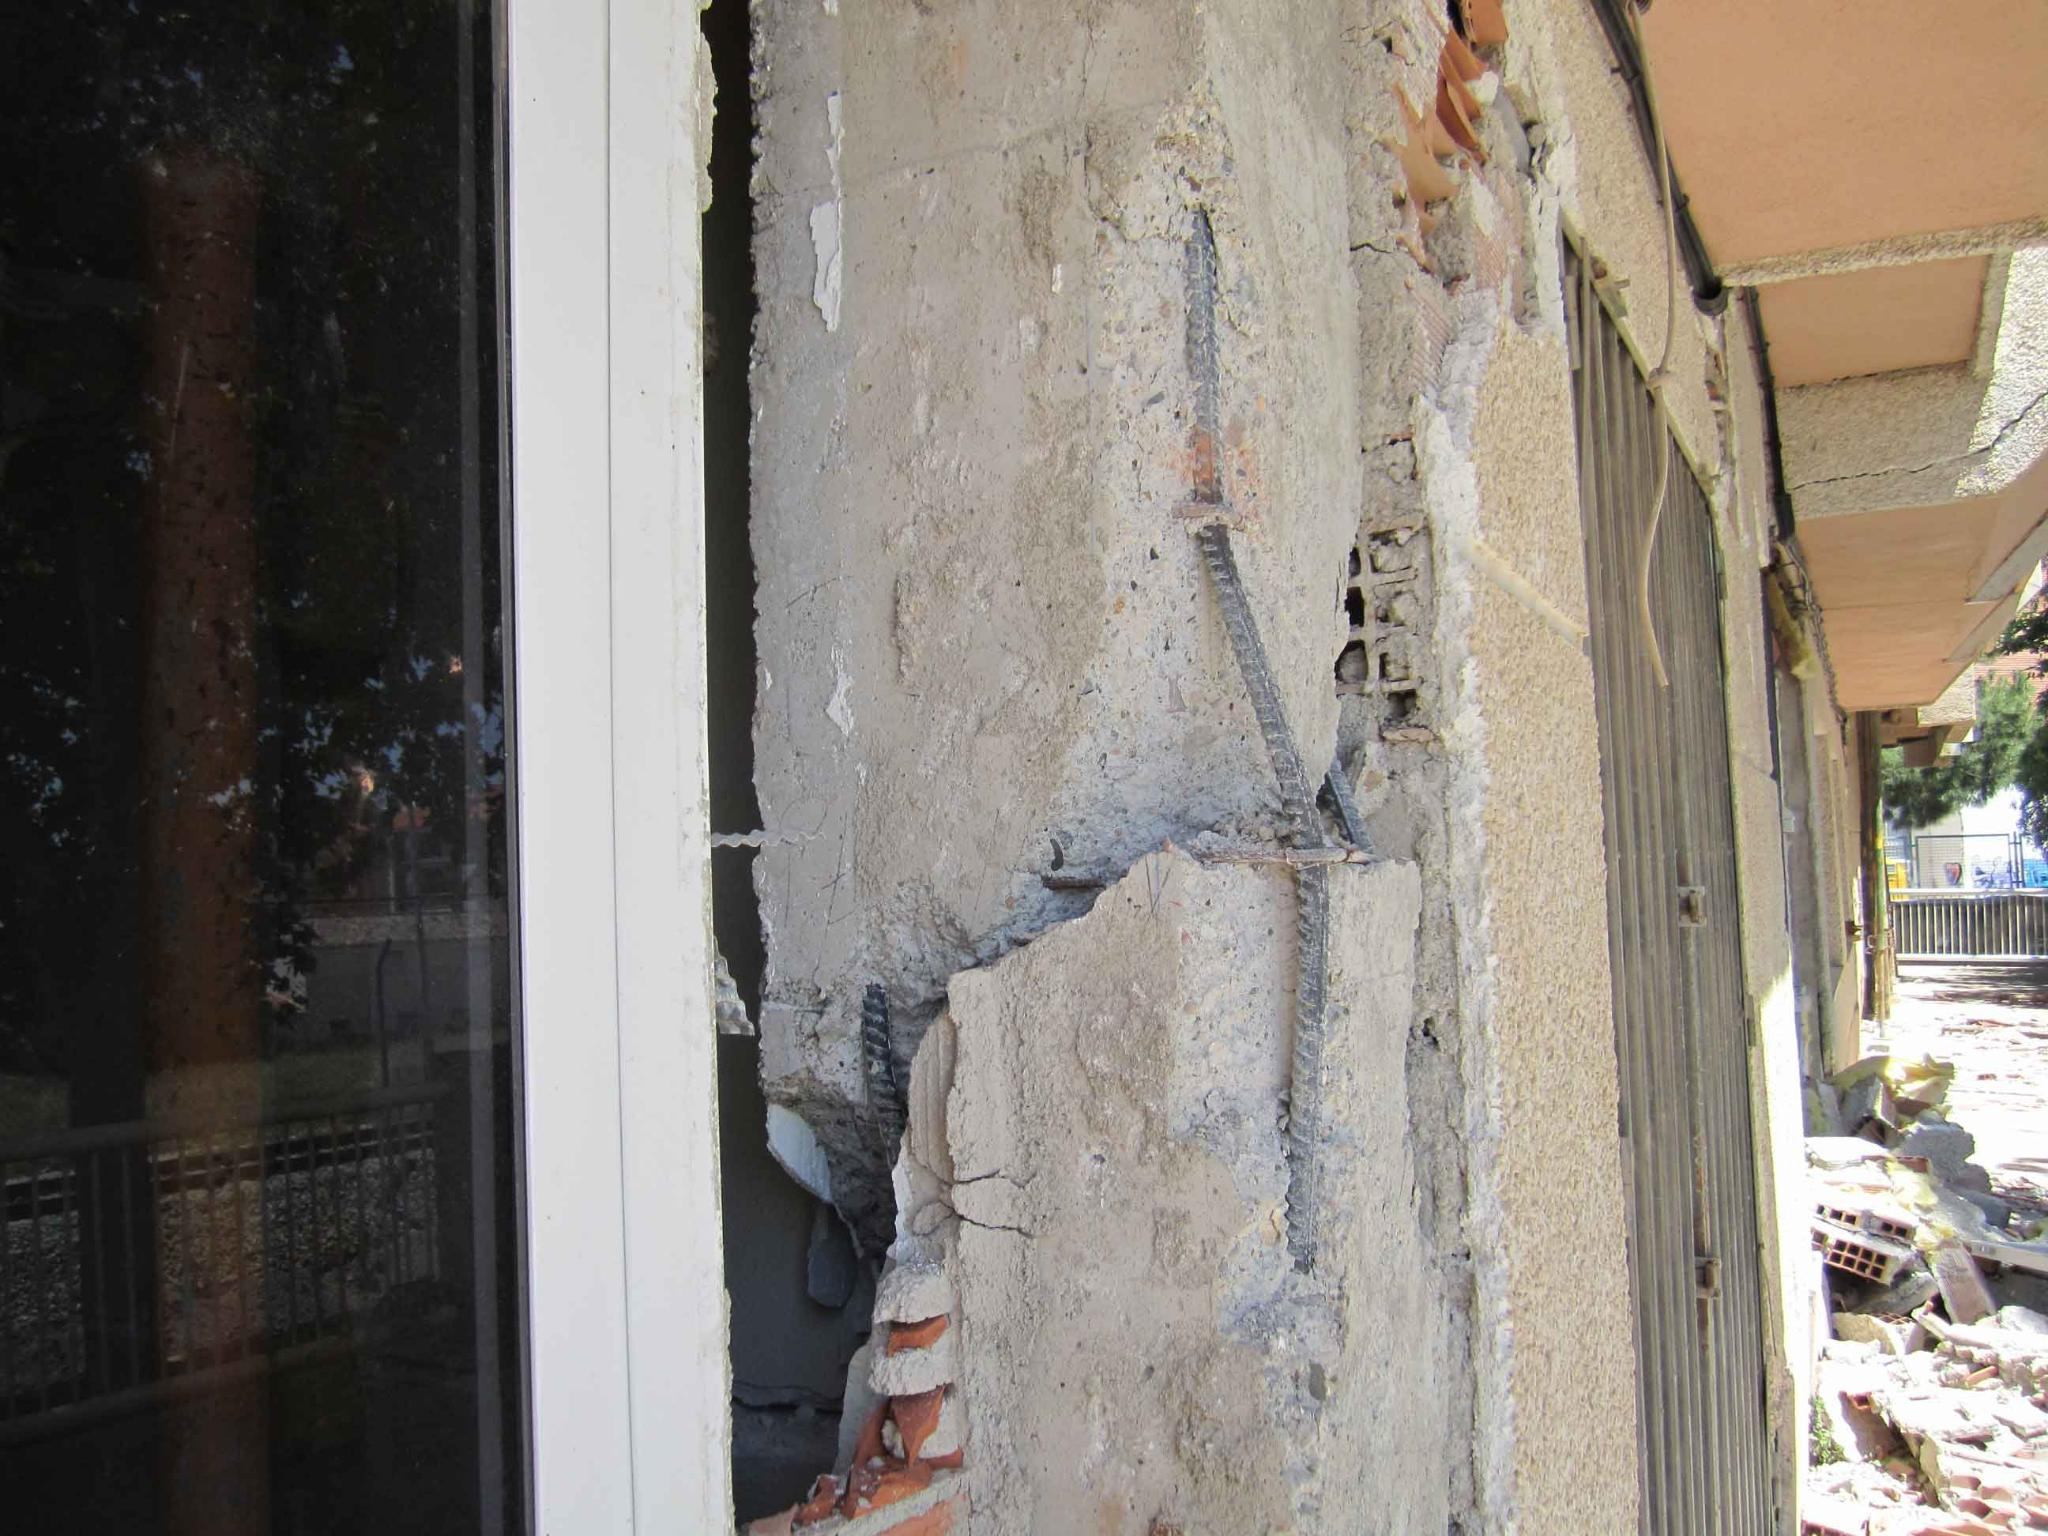exposed_rebar: (1196, 520, 1332, 1268), (860, 980, 908, 1164)
spalling: (1044, 84, 1296, 1220), (768, 948, 976, 1248)
